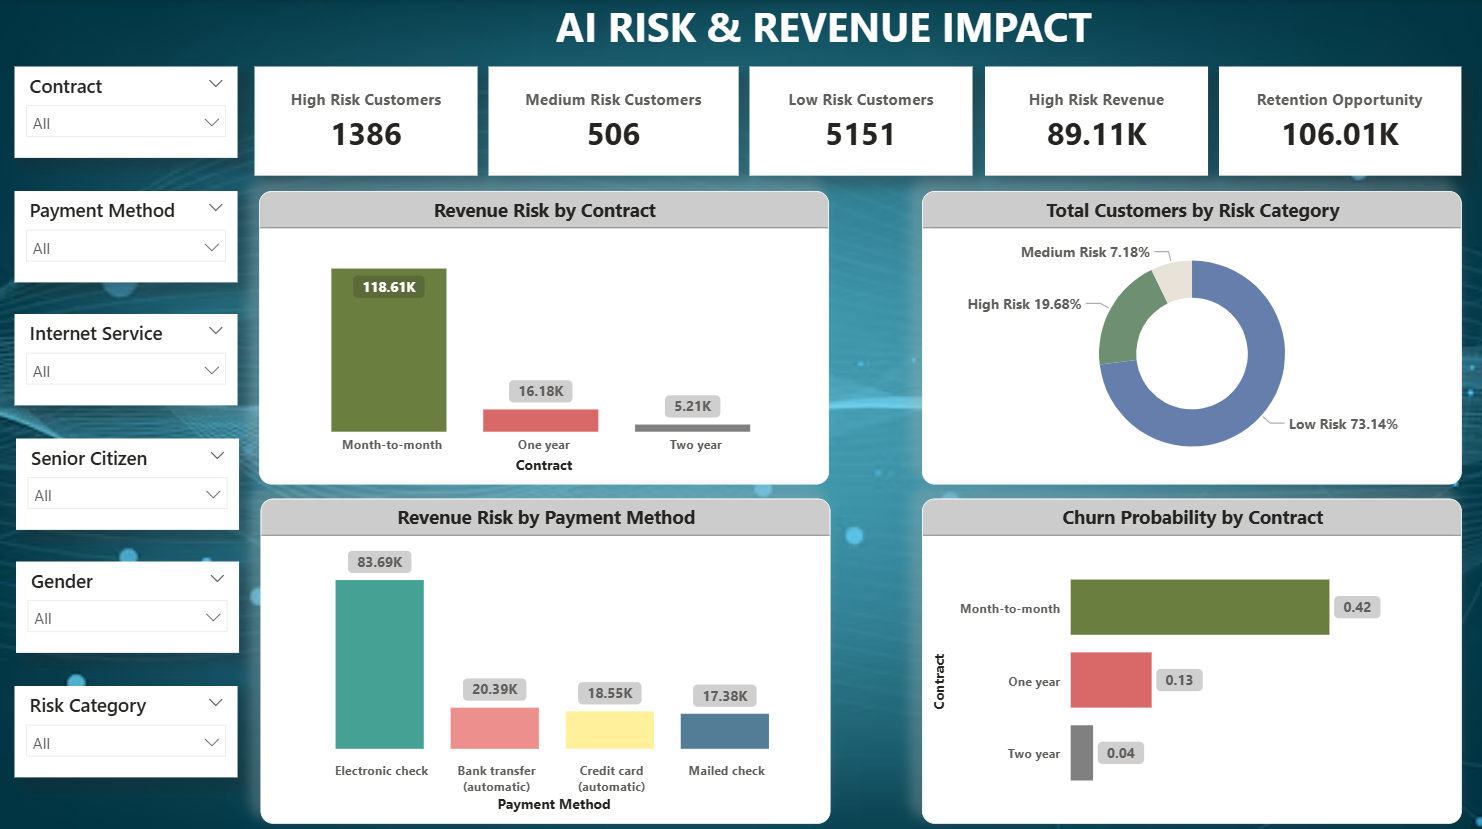

Layout of this report page (visuals, bound fields, positions):
{"tool":"powerbi","page":{"name":"Page 2","canvas":[1280,720],"ordinal":1},"visuals":[{"type":"textbox","title":"AI RISK & REVENUE IMPACT","box":[475.5,0,534.5,75.7],"z":0},{"type":"cardVisual","fields":{"Data":["Metrics.High Risk Customers"]},"box":[221.1,58.5,192.3,93.9],"z":1000},{"type":"cardVisual","fields":{"Data":["Metrics.Medium Risk Customers"]},"box":[422.8,58.5,215,93.9],"z":2000},{"type":"cardVisual","fields":{"Data":["Metrics.Low Risk Customers"]},"box":[647.3,58.5,192.3,93.9],"z":3000},{"type":"cardVisual","fields":{"Data":["Metrics.High Risk Revenue"]},"box":[849.1,58.5,192.3,93.9],"z":4000},{"type":"cardVisual","fields":{"Data":["Metrics.Retention Opportunity"]},"box":[1050.9,58.5,209,93.9],"z":5000},{"type":"donutChart","fields":{"Category":["Dim_Risk.Risk_Category"],"Y":["Metrics.Total Customers"]},"box":[795,165,464.9,252.9],"z":6000},{"type":"clusteredColumnChart","fields":{"Category":["Dim_Contract.Contract"],"Y":["Sum(Fact ChurnData.Revenue_at_Risk)"]},"box":[224.1,165,490.6,252.9],"z":7000},{"type":"clusteredBarChart","fields":{"Y":["Avg(Fact ChurnData.Churn_Probability)"],"Category":["Dim_Contract.Contract"]},"box":[795,430,464.9,280.1],"z":8000},{"type":"slicer","fields":{"Values":["Dim_Contract.Contract"]},"box":[13.6,58.1,192.3,78.7],"z":9000},{"type":"slicer","fields":{"Values":["Dim_Risk.Risk_Category"]},"box":[13.6,591.1,192.3,78.7],"z":10000},{"type":"slicer","fields":{"Values":["Dim_Service.InternetService"]},"box":[13.6,271.3,192.3,78.7],"z":11000},{"type":"slicer","fields":{"Values":["Dim_Contract.PaymentMethod"]},"box":[13.6,164.7,192.3,78.7],"z":12000},{"type":"slicer","fields":{"Values":["Dim_Customer.gender"]},"box":[15.1,484.5,192.3,78.7],"z":13000},{"type":"slicer","fields":{"Values":["Dim_Customer.SeniorCitizen"]},"box":[15.1,377.9,192.3,78.7],"z":14000},{"type":"clusteredColumnChart","fields":{"Y":["Sum(Fact ChurnData.Revenue_at_Risk)"],"Category":["Dim_Contract.PaymentMethod"]},"box":[225.6,430,490.6,280.1],"z":15000}]}

Visuals, with their boxes in screenshot pixels (x1, y1, x2, y2), scaled from the page's 1280x720 canvas onto the 1482x829 screenshot:
"AI RISK & REVENUE IMPACT" textbox: (551,0,1169,87)
cardVisual - Metrics.High Risk Customers: (256,67,479,175)
cardVisual - Metrics.Medium Risk Customers: (490,67,738,175)
cardVisual - Metrics.Low Risk Customers: (749,67,972,175)
cardVisual - Metrics.High Risk Revenue: (983,67,1206,175)
cardVisual - Metrics.Retention Opportunity: (1217,67,1459,175)
donutChart - Dim_Risk.Risk_Category x Metrics.Total Customers: (920,190,1459,481)
clusteredColumnChart - Dim_Contract.Contract x Sum(Fact ChurnData.Revenue_at_Risk): (259,190,827,481)
clusteredBarChart - Avg(Fact ChurnData.Churn_Probability) x Dim_Contract.Contract: (920,495,1459,818)
slicer - Dim_Contract.Contract: (16,67,238,158)
slicer - Dim_Risk.Risk_Category: (16,681,238,771)
slicer - Dim_Service.InternetService: (16,312,238,403)
slicer - Dim_Contract.PaymentMethod: (16,190,238,280)
slicer - Dim_Customer.gender: (17,558,240,648)
slicer - Dim_Customer.SeniorCitizen: (17,435,240,526)
clusteredColumnChart - Sum(Fact ChurnData.Revenue_at_Risk) x Dim_Contract.PaymentMethod: (261,495,829,818)
